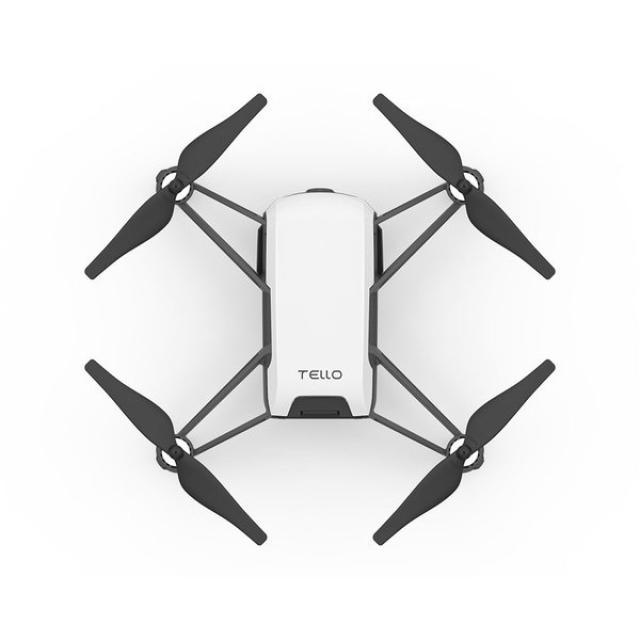drones: (65, 67, 586, 565)
